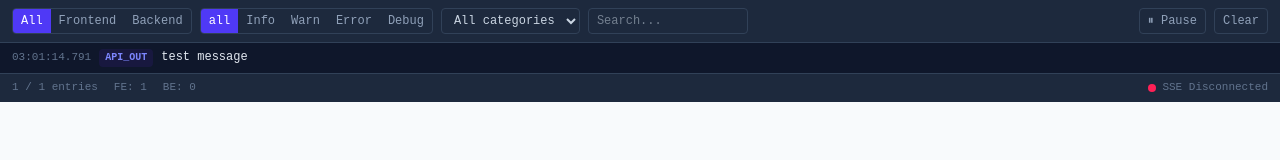
Test case: DevLogs page › shows no-match state when entries exist but filters exclude all
Click the button "backend" at [157, 21], box [124,9,191,33]
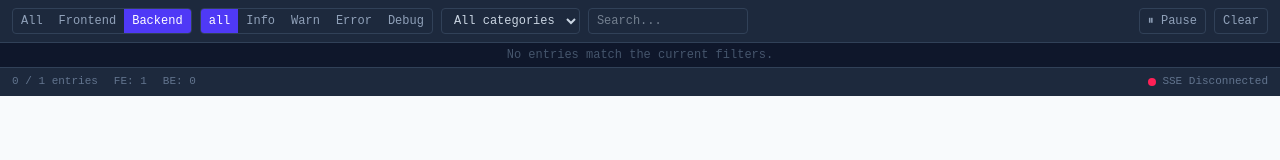
Result: the text "No entries match the current filters." is shown at [507,48,773,62]
